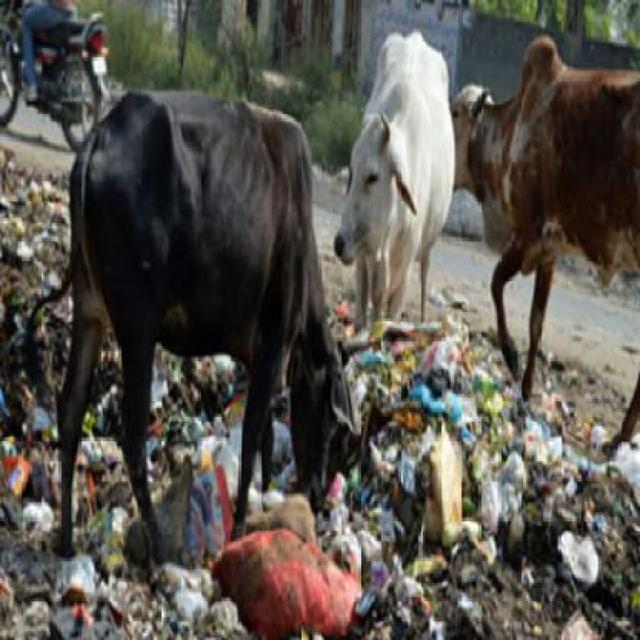garbage: (365, 356, 596, 609), (88, 431, 126, 597), (3, 171, 59, 278)
